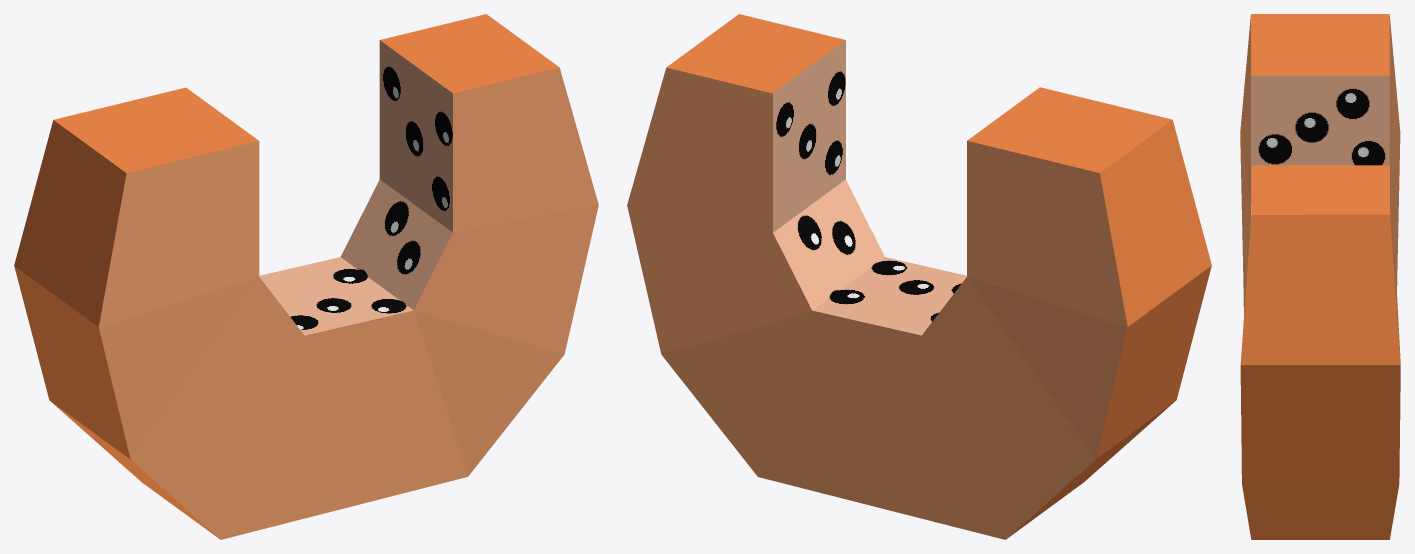
File: papaya.fbx
3 renders of one model, left to right at view 1: azimuth 30°, elevation 25°; view 2: azimuth 150°, elevation 25°; view 3: azimuth 270°, elevation 25°, orthographic. The views are drawn at different scales.
Visible parts, largest first — view 1: Sphere; view 2: Sphere; view 3: Sphere.
Part boxes in pixels (box(x1,y1,x2,y2)): Sphere: box(14, 14, 598, 539); Sphere: box(627, 14, 1211, 539); Sphere: box(1240, 14, 1400, 539).
Size of the model in its own units: 185 by 137 by 54.1.
